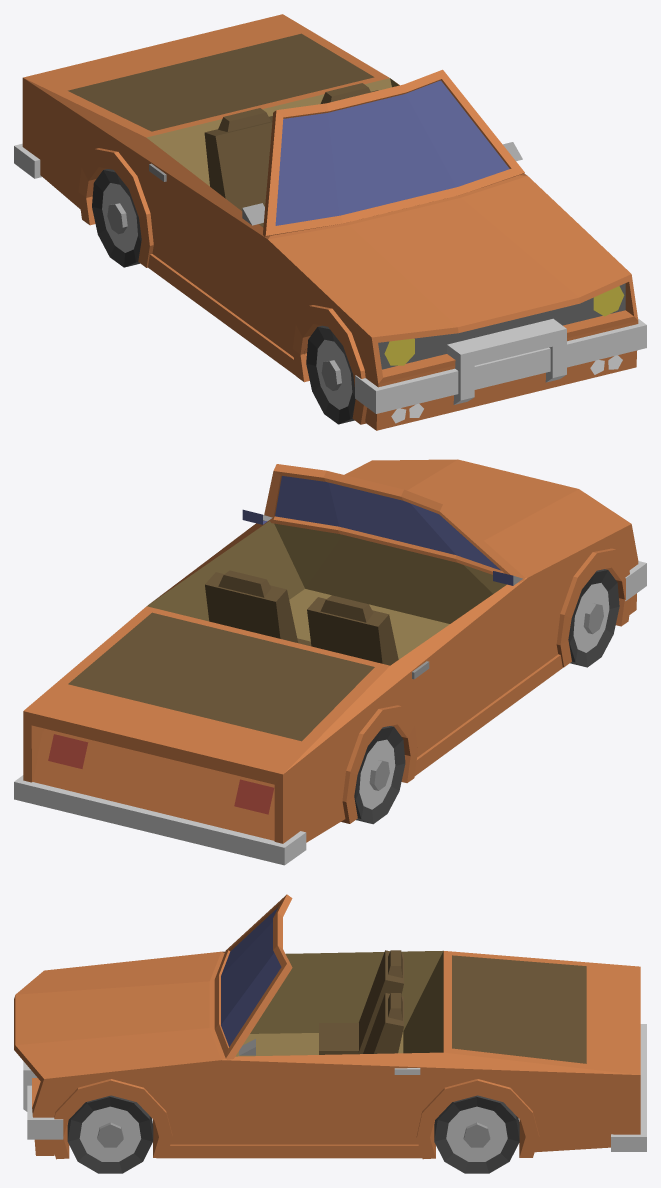
Rendered from transport_sport_005.fbx.
The picture shows the model from 3 angles, top to bottom: view 1: azimuth 30°, elevation 25°; view 2: azimuth 150°, elevation 25°; view 3: azimuth 270°, elevation 25°; orthographic projection. The views are drawn at different scales.
Parts seen in each view (by area): view 1: transport_sport_005; view 2: transport_sport_005; view 3: transport_sport_005.
Part boxes in pixels (left/top/right/bottom): transport_sport_005: left=14, top=14, right=646, bottom=430; transport_sport_005: left=14, top=459, right=646, bottom=865; transport_sport_005: left=14, top=894, right=646, bottom=1173.
Size of the model in its own units: 163 by 127 by 385.
